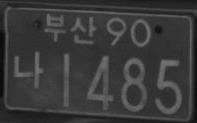0: (130, 18, 150, 48)
1: (53, 53, 80, 107)
4: (86, 55, 114, 110)
5: (154, 58, 182, 115)
8: (120, 56, 148, 113)
9: (105, 16, 127, 46)
나: (13, 51, 44, 89)
부산_O: (45, 12, 96, 45)
